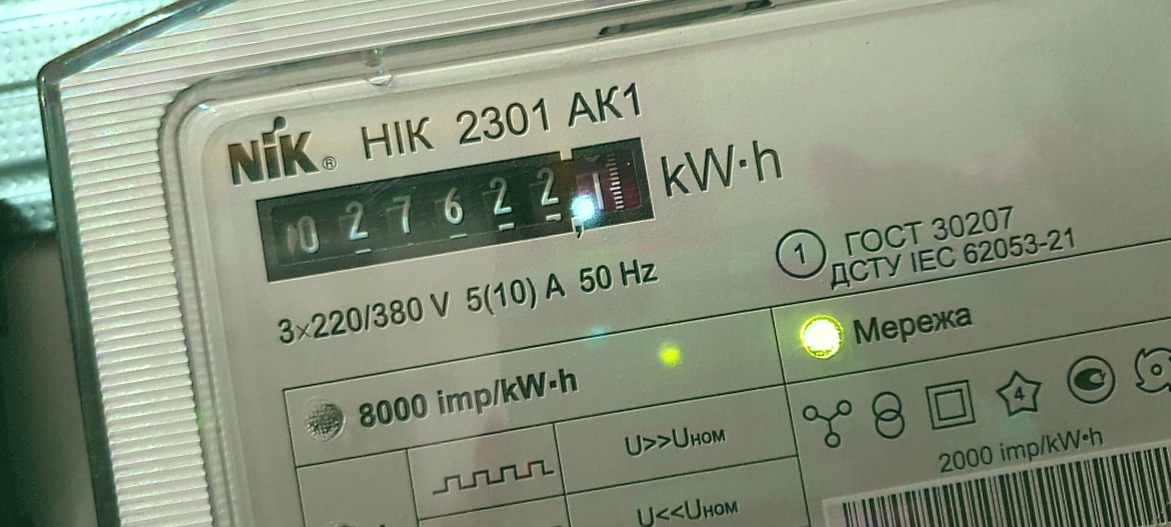0: (293, 211, 324, 257)
1: (587, 168, 609, 213)
2: (485, 173, 515, 217), (342, 198, 371, 243), (534, 163, 562, 208)
6: (439, 184, 467, 227)
7: (390, 192, 419, 238)
screen: (241, 125, 670, 291)
